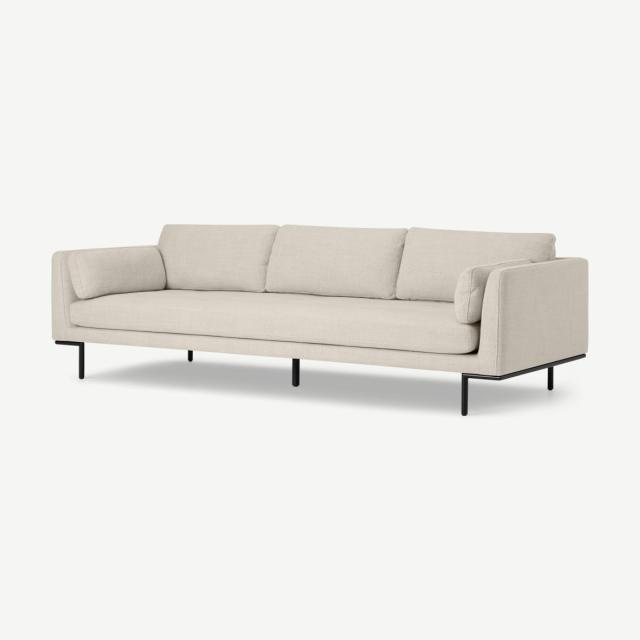back_cushion: (67, 225, 555, 323)
left_arm: (478, 259, 588, 374)
legs: (55, 341, 83, 379), (461, 374, 469, 415), (292, 359, 300, 386), (547, 367, 553, 390), (187, 350, 192, 361)
right_arm: (51, 251, 78, 338)
seat_cushion: (70, 290, 479, 354)
stallion-sofa: (0, 0, 639, 639)
